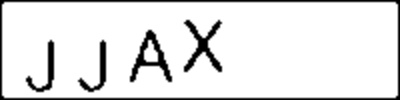A: (127, 26, 176, 85)
J: (76, 34, 112, 96), (24, 36, 60, 95)
X: (180, 13, 227, 75)
